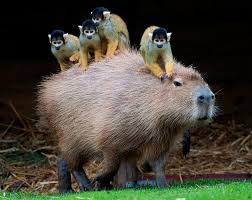capivara: (37, 49, 217, 193)
